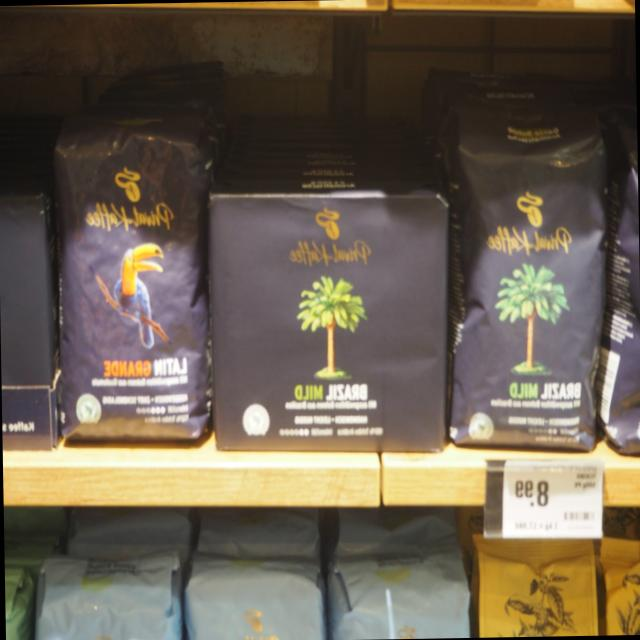BM Bohne: (438, 98, 614, 457)
BM Gemahlen: (202, 180, 457, 460)
LG Bohne: (51, 118, 223, 450)
